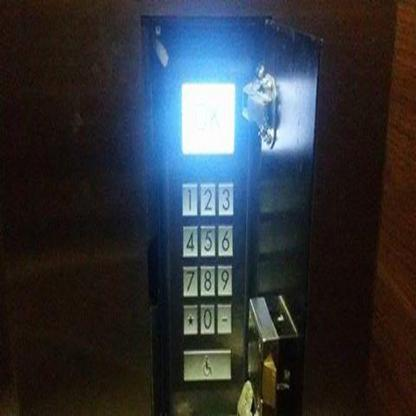-: (216, 301, 232, 335)
0: (198, 302, 216, 336)
1: (181, 180, 197, 218)
2: (198, 181, 216, 217)
3: (217, 181, 234, 218)
4: (181, 222, 197, 259)
5: (199, 222, 216, 257)
6: (216, 223, 234, 256)
7: (182, 263, 198, 298)
8: (199, 263, 216, 297)
9: (216, 263, 233, 297)
CH: (181, 346, 233, 383)
led: (178, 77, 238, 159)
s: (182, 302, 198, 336)
